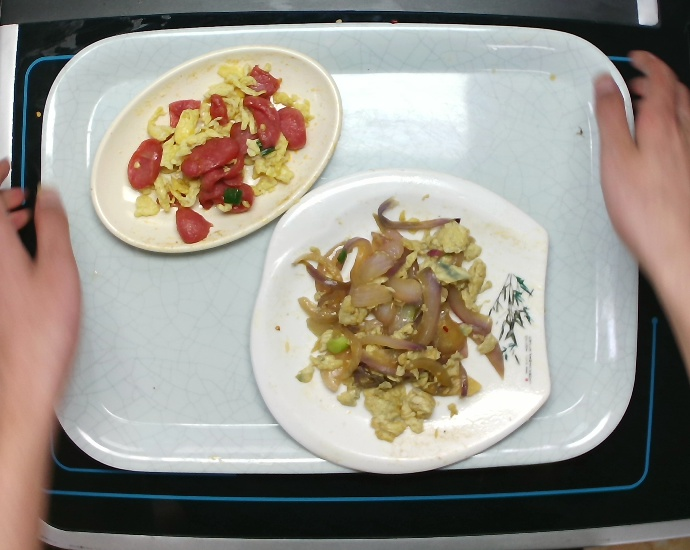JYsf-Mian_Pan: (243, 162, 557, 479)
JYsf-Tuo_Yuan_Wan: (85, 39, 346, 261)
